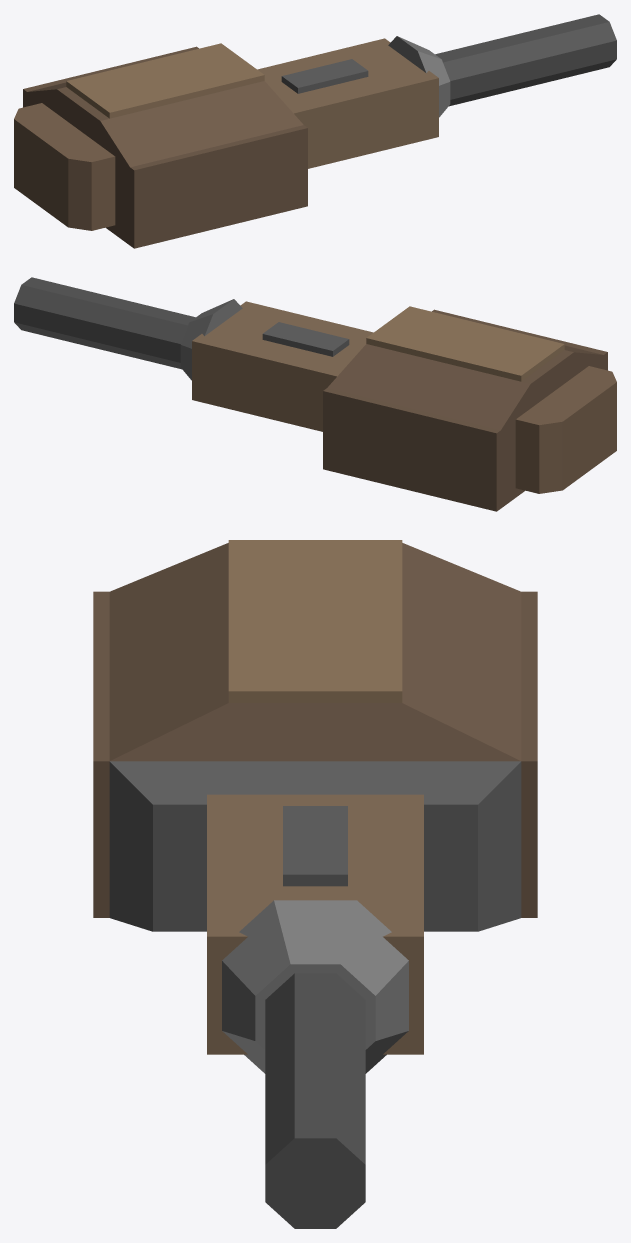
The model's file is ce_heavy_gun.obj.
3 renders of one model, top to bottom at view 1: azimuth 30°, elevation 25°; view 2: azimuth 150°, elevation 25°; view 3: azimuth 270°, elevation 25°, orthographic. The views are drawn at different scales.
Visible parts, largest first — view 1: ce_heavy_gun_body, ce_heavy_gun_sleeve, ce_heavy_gun_armour, ce_heavy_gun_rear, ce_heavy_gun_barrel, ce_heavy_gun_top, ce_heavy_gun_slot, ce_heavy_gun_collar; view 2: ce_heavy_gun_body, ce_heavy_gun_sleeve, ce_heavy_gun_armour, ce_heavy_gun_rear, ce_heavy_gun_barrel, ce_heavy_gun_top, ce_heavy_gun_slot, ce_heavy_gun_collar; view 3: ce_heavy_gun_armour, ce_heavy_gun_front, ce_heavy_gun_top, ce_heavy_gun_sleeve, ce_heavy_gun_barrel, ce_heavy_gun_collar, ce_heavy_gun_body, ce_heavy_gun_slot.
Boxes of the visible parts, x1,y1,x2,y2 form: ce_heavy_gun_body: (23, 46, 307, 248); ce_heavy_gun_sleeve: (257, 38, 438, 168); ce_heavy_gun_armour: (27, 81, 303, 167); ce_heavy_gun_rear: (14, 103, 115, 230); ce_heavy_gun_barrel: (435, 14, 616, 106); ce_heavy_gun_top: (66, 43, 264, 118); ce_heavy_gun_slot: (281, 59, 368, 93); ce_heavy_gun_collar: (388, 36, 450, 117); ce_heavy_gun_body: (323, 309, 607, 511); ce_heavy_gun_sleeve: (192, 301, 373, 431); ce_heavy_gun_armour: (327, 344, 603, 430); ce_heavy_gun_rear: (515, 366, 616, 493); ce_heavy_gun_barrel: (14, 277, 195, 369); ce_heavy_gun_top: (366, 306, 564, 381); ce_heavy_gun_slot: (262, 322, 349, 356); ce_heavy_gun_collar: (180, 299, 242, 380); ce_heavy_gun_armour: (109, 543, 521, 761); ce_heavy_gun_front: (109, 761, 521, 931); ce_heavy_gun_top: (228, 540, 402, 702); ce_heavy_gun_sleeve: (207, 794, 423, 1054); ce_heavy_gun_barrel: (265, 973, 365, 1228); ce_heavy_gun_collar: (222, 900, 408, 1073); ce_heavy_gun_body: (93, 591, 537, 917); ce_heavy_gun_slot: (283, 806, 347, 886).
Size of the model in its own units: 1.2 by 0.2344 by 0.41.
